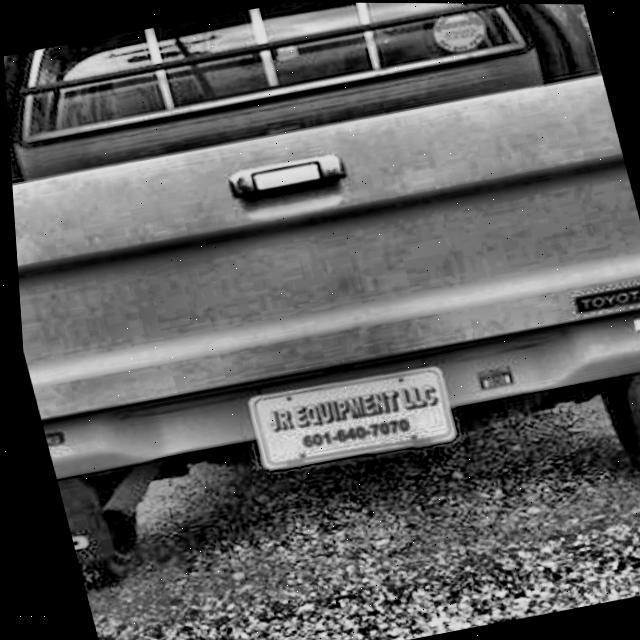light_vehicle: (0, 0, 640, 626)
